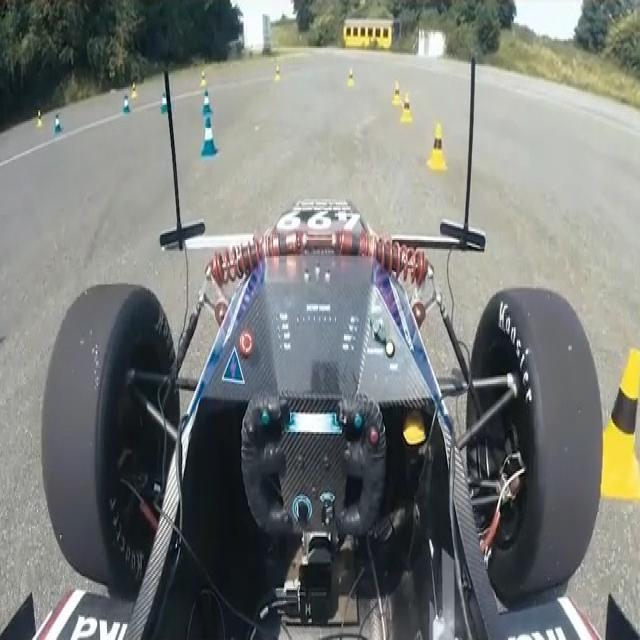blue_cone: (201, 116, 219, 157), (202, 89, 213, 116), (54, 112, 62, 137), (161, 92, 169, 115), (123, 89, 130, 115)
yellow_cone: (590, 348, 640, 499), (427, 124, 447, 170), (401, 92, 413, 122), (392, 81, 403, 105), (346, 63, 354, 88), (274, 62, 281, 84), (36, 110, 43, 131), (200, 69, 206, 89), (130, 82, 136, 100)
